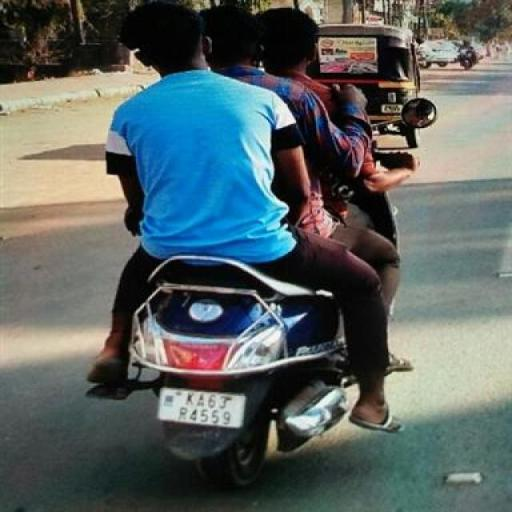tripple riding: (94, 0, 416, 254)
